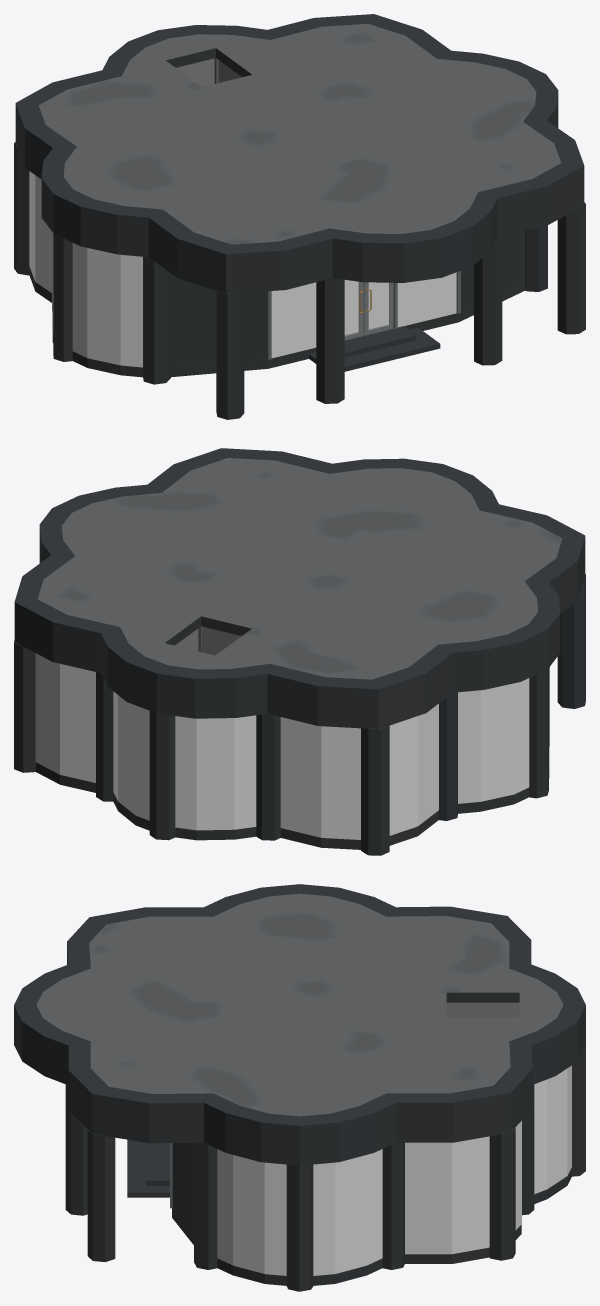
File: SM_Bldg_City_High-Rise_Modern_01_Base.fbx
3 views of the same model, one above another, from view 1: azimuth 30°, elevation 25°; view 2: azimuth 150°, elevation 25°; view 3: azimuth 270°, elevation 25° (orthographic).
Parts seen in each view (by area): view 1: SM_Bldg_City_High-Rise_Modern_01_Base; view 2: SM_Bldg_City_High-Rise_Modern_01_Base; view 3: SM_Bldg_City_High-Rise_Modern_01_Base.
Part boxes in pixels (x1,y1,x2,y2): SM_Bldg_City_High-Rise_Modern_01_Base: [14, 14, 585, 419]; SM_Bldg_City_High-Rise_Modern_01_Base: [14, 448, 585, 855]; SM_Bldg_City_High-Rise_Modern_01_Base: [14, 884, 585, 1291].
Size of the model in its own units: 15.61 by 15.61 by 5.
